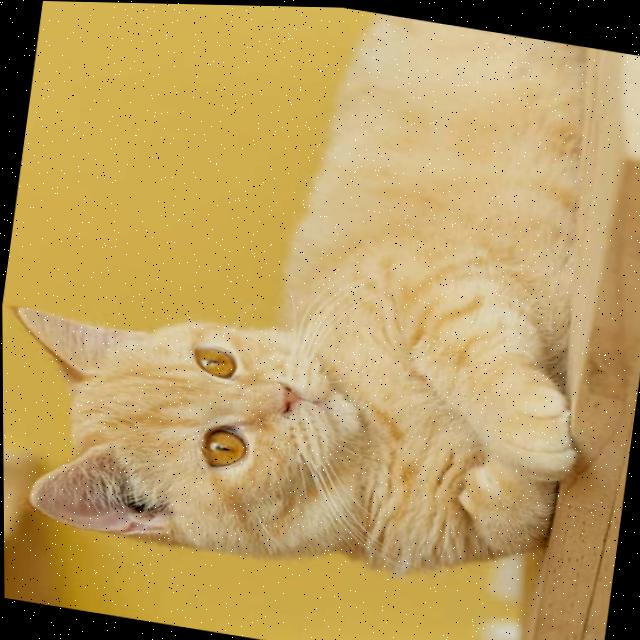Munchkin: (0, 0, 636, 612)
